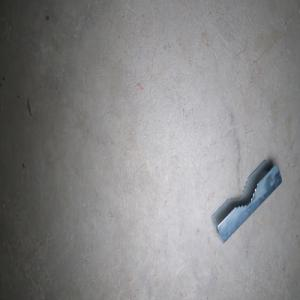ClampPart: (210, 155, 282, 245)
